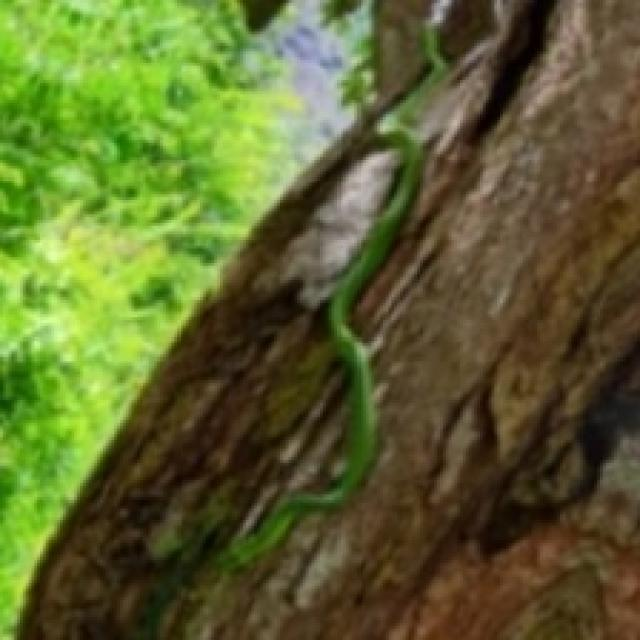red-tailed green ratsnake: (215, 12, 453, 572)
